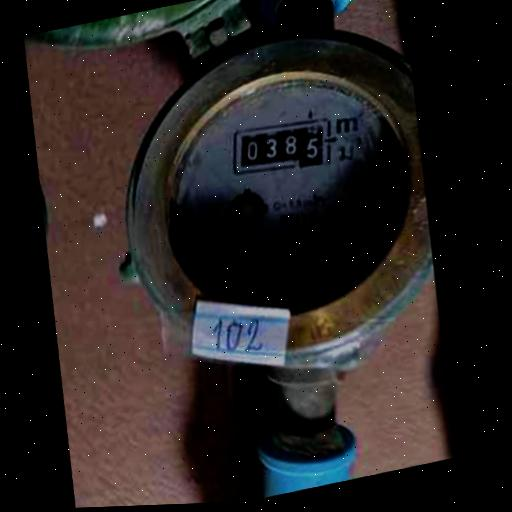0: (236, 132, 266, 167)
3: (255, 128, 286, 165)
5: (292, 121, 329, 169)
8: (276, 126, 304, 163)
border_water_meter_number: (225, 108, 339, 184)
